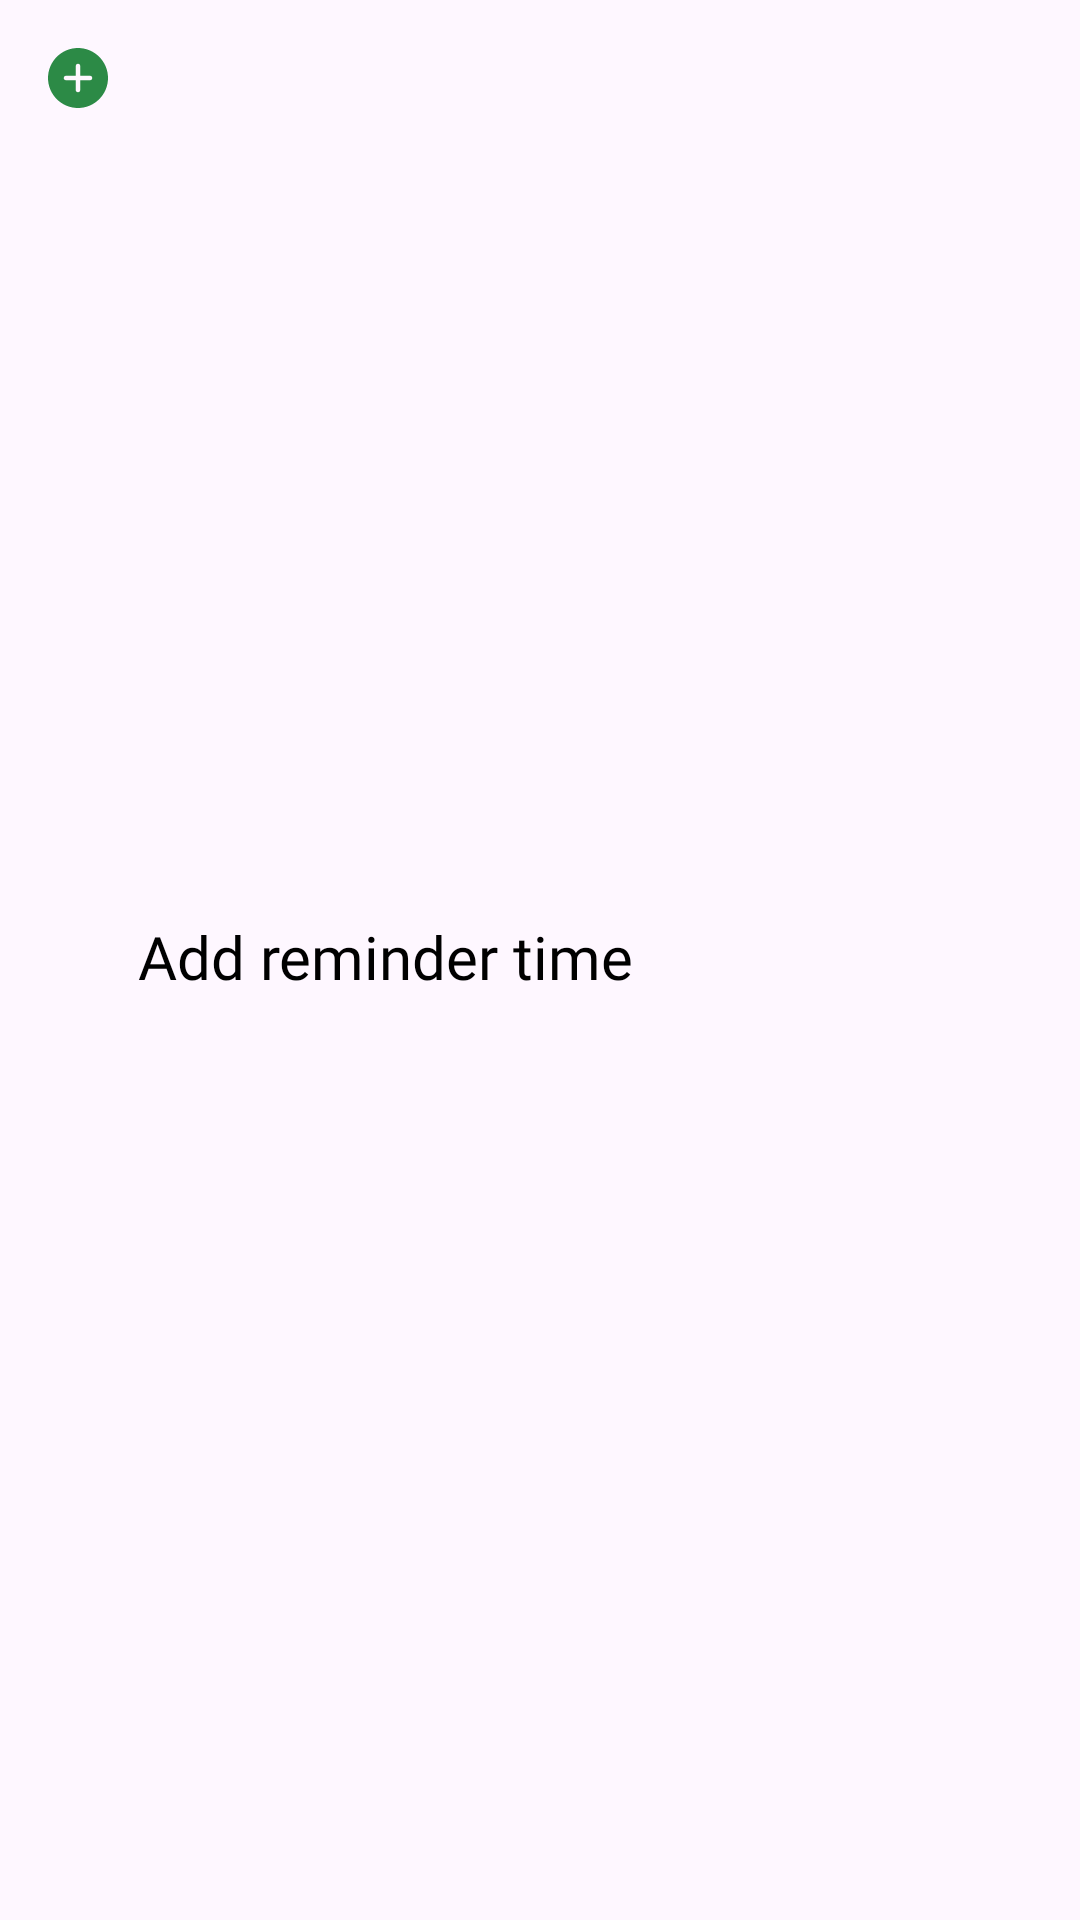

Named icons in this screenshot (1080*1920) and their centers, (x,y):
add: (78,78)
